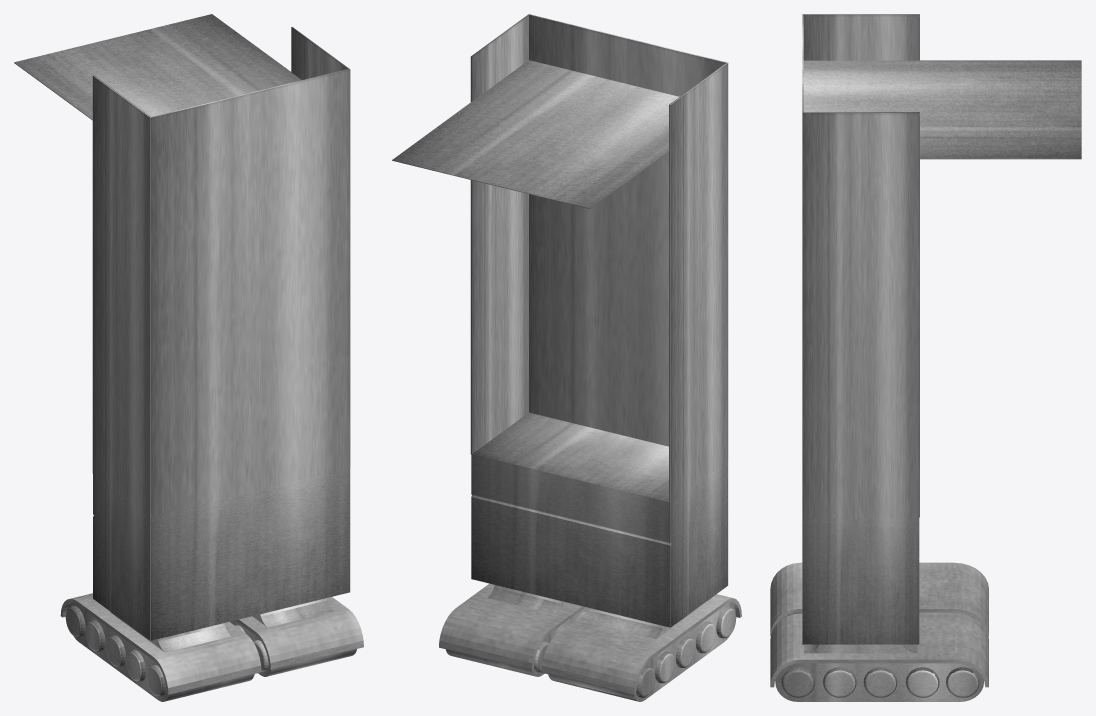
Rendered from car3.obj.
The picture shows the model from 3 angles, left to right: view 1: azimuth 30°, elevation 25°; view 2: azimuth 150°, elevation 25°; view 3: azimuth 270°, elevation 25°; orthographic projection.
Parts seen in each view (by area): view 1: Line018, Obj3d66_560254_5_354, Rectangle018, Obj3d66_560254_107_443, Obj3d66_560254_21_226, Obj3d66_560254_109_420, Obj3d66_560254_108_287, Obj3d66_560254_20_648, Obj3d66_560254_194_529; view 2: Line018, Obj3d66_560254_5_354, Rectangle018, Obj3d66_560254_107_443, Obj3d66_560254_21_226, Obj3d66_560254_109_420, Obj3d66_560254_108_287, Obj3d66_560254_20_648, Obj3d66_560254_194_529; view 3: Line018, Rectangle018, Obj3d66_560254_5_354, Obj3d66_560254_21_226, Obj3d66_560254_107_443, Obj3d66_560254_194_529, Obj3d66_560254_20_648, Obj3d66_560254_97_431, Obj3d66_560254_195_828, Obj3d66_560254_98_202, Obj3d66_560254_1_282, Obj3d66_560254_172_437.
Part boxes in pixels (x1,y1,x2,y2): Line018: (92, 26, 350, 515); Obj3d66_560254_5_354: (93, 467, 350, 640); Rectangle018: (14, 14, 301, 120); Obj3d66_560254_107_443: (60, 593, 261, 694); Obj3d66_560254_21_226: (235, 597, 363, 669); Obj3d66_560254_109_420: (67, 602, 254, 701); Obj3d66_560254_108_287: (110, 611, 230, 652); Obj3d66_560254_20_648: (252, 598, 333, 627); Obj3d66_560254_194_529: (230, 620, 356, 676); Line018: (470, 14, 728, 502); Obj3d66_560254_5_354: (471, 412, 728, 627); Rectangle018: (392, 60, 679, 208); Obj3d66_560254_107_443: (541, 594, 741, 695); Obj3d66_560254_21_226: (439, 583, 585, 670); Obj3d66_560254_109_420: (548, 602, 735, 701); Obj3d66_560254_108_287: (590, 598, 711, 638); Obj3d66_560254_20_648: (488, 585, 568, 614); Obj3d66_560254_194_529: (446, 607, 591, 676); Line018: (802, 14, 919, 517); Rectangle018: (803, 60, 1081, 159); Obj3d66_560254_5_354: (802, 517, 919, 644); Obj3d66_560254_21_226: (770, 613, 988, 687); Obj3d66_560254_107_443: (770, 562, 988, 636); Obj3d66_560254_194_529: (775, 663, 983, 701); Obj3d66_560254_20_648: (804, 644, 917, 653); Obj3d66_560254_97_431: (781, 667, 814, 697); Obj3d66_560254_195_828: (946, 667, 979, 697); Obj3d66_560254_98_202: (823, 667, 856, 697); Obj3d66_560254_1_282: (863, 667, 897, 697); Obj3d66_560254_172_437: (906, 667, 939, 697).
Size of the model in its own units: 217 by 603 by 288.
